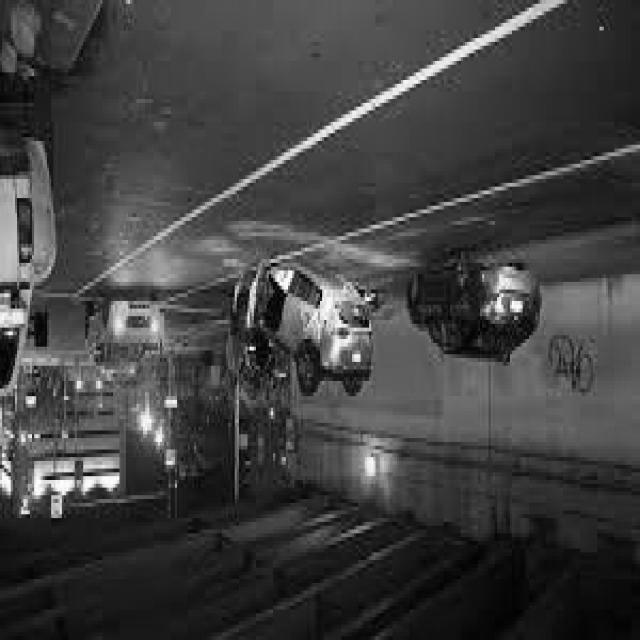severe: (230, 248, 372, 408)
